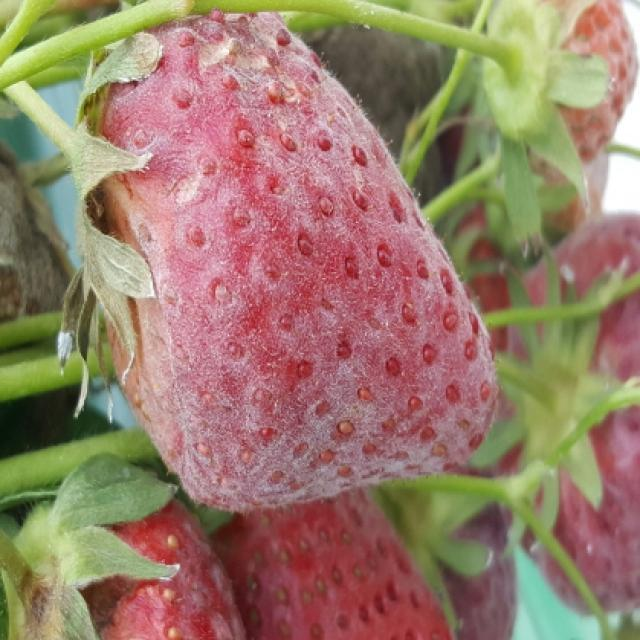Powdery Mildew Fruit: (77, 9, 502, 511), (27, 463, 247, 638)
